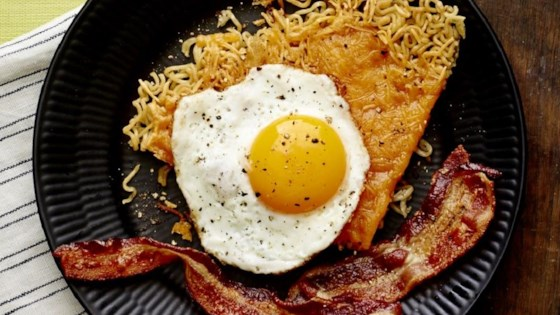fried egg: (181, 93, 351, 259)
